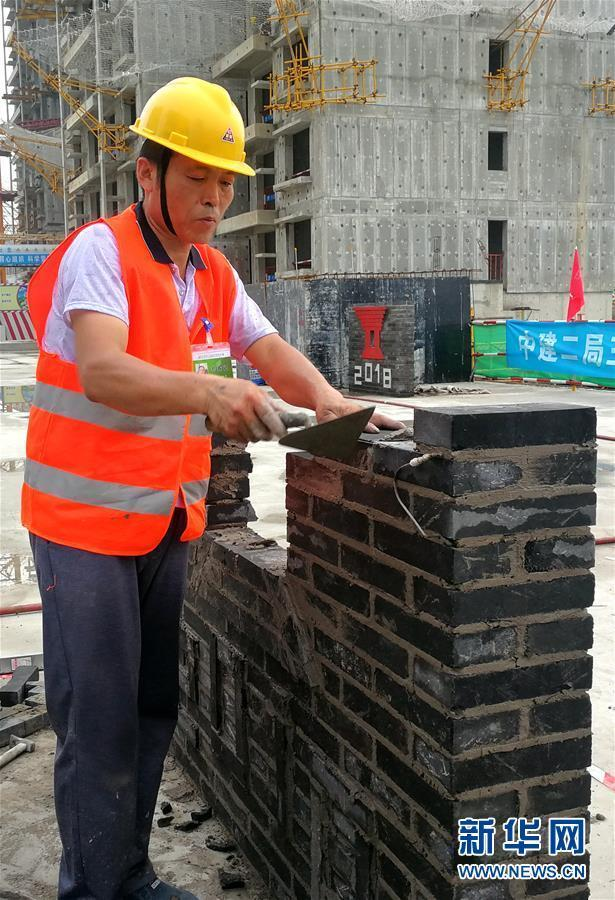helmet: (135, 77, 260, 177)
